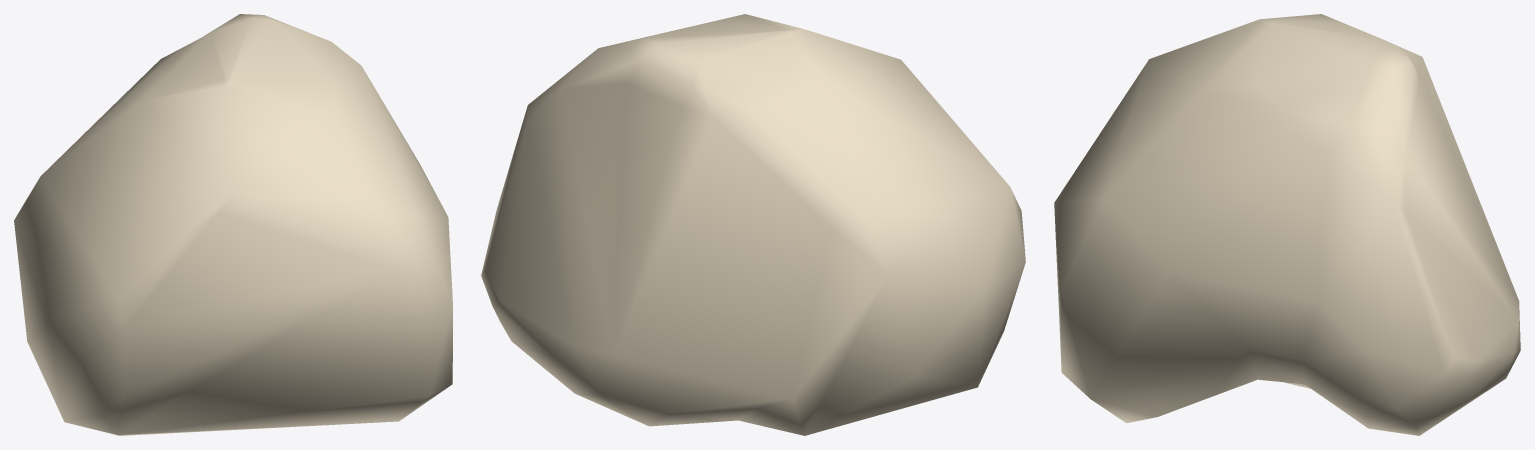
File: middle-phalanx-of-fifth-finger-of-foot-r.glb
The picture shows the model from 3 angles, left to right: view 1: azimuth 30°, elevation 25°; view 2: azimuth 150°, elevation 25°; view 3: azimuth 270°, elevation 25°; orthographic projection. The views are drawn at different scales.
Parts seen in each view (by area): view 1: Middle phalanx of fifth finger of foot.r; view 2: Middle phalanx of fifth finger of foot.r; view 3: Middle phalanx of fifth finger of foot.r.
Part boxes in pixels (x1,y1,x2,y2): Middle phalanx of fifth finger of foot.r: [14, 14, 452, 435]; Middle phalanx of fifth finger of foot.r: [481, 14, 1025, 435]; Middle phalanx of fifth finger of foot.r: [1054, 14, 1520, 435].
Size of the model in its own units: 0.0086 by 0.0066 by 0.00779.
